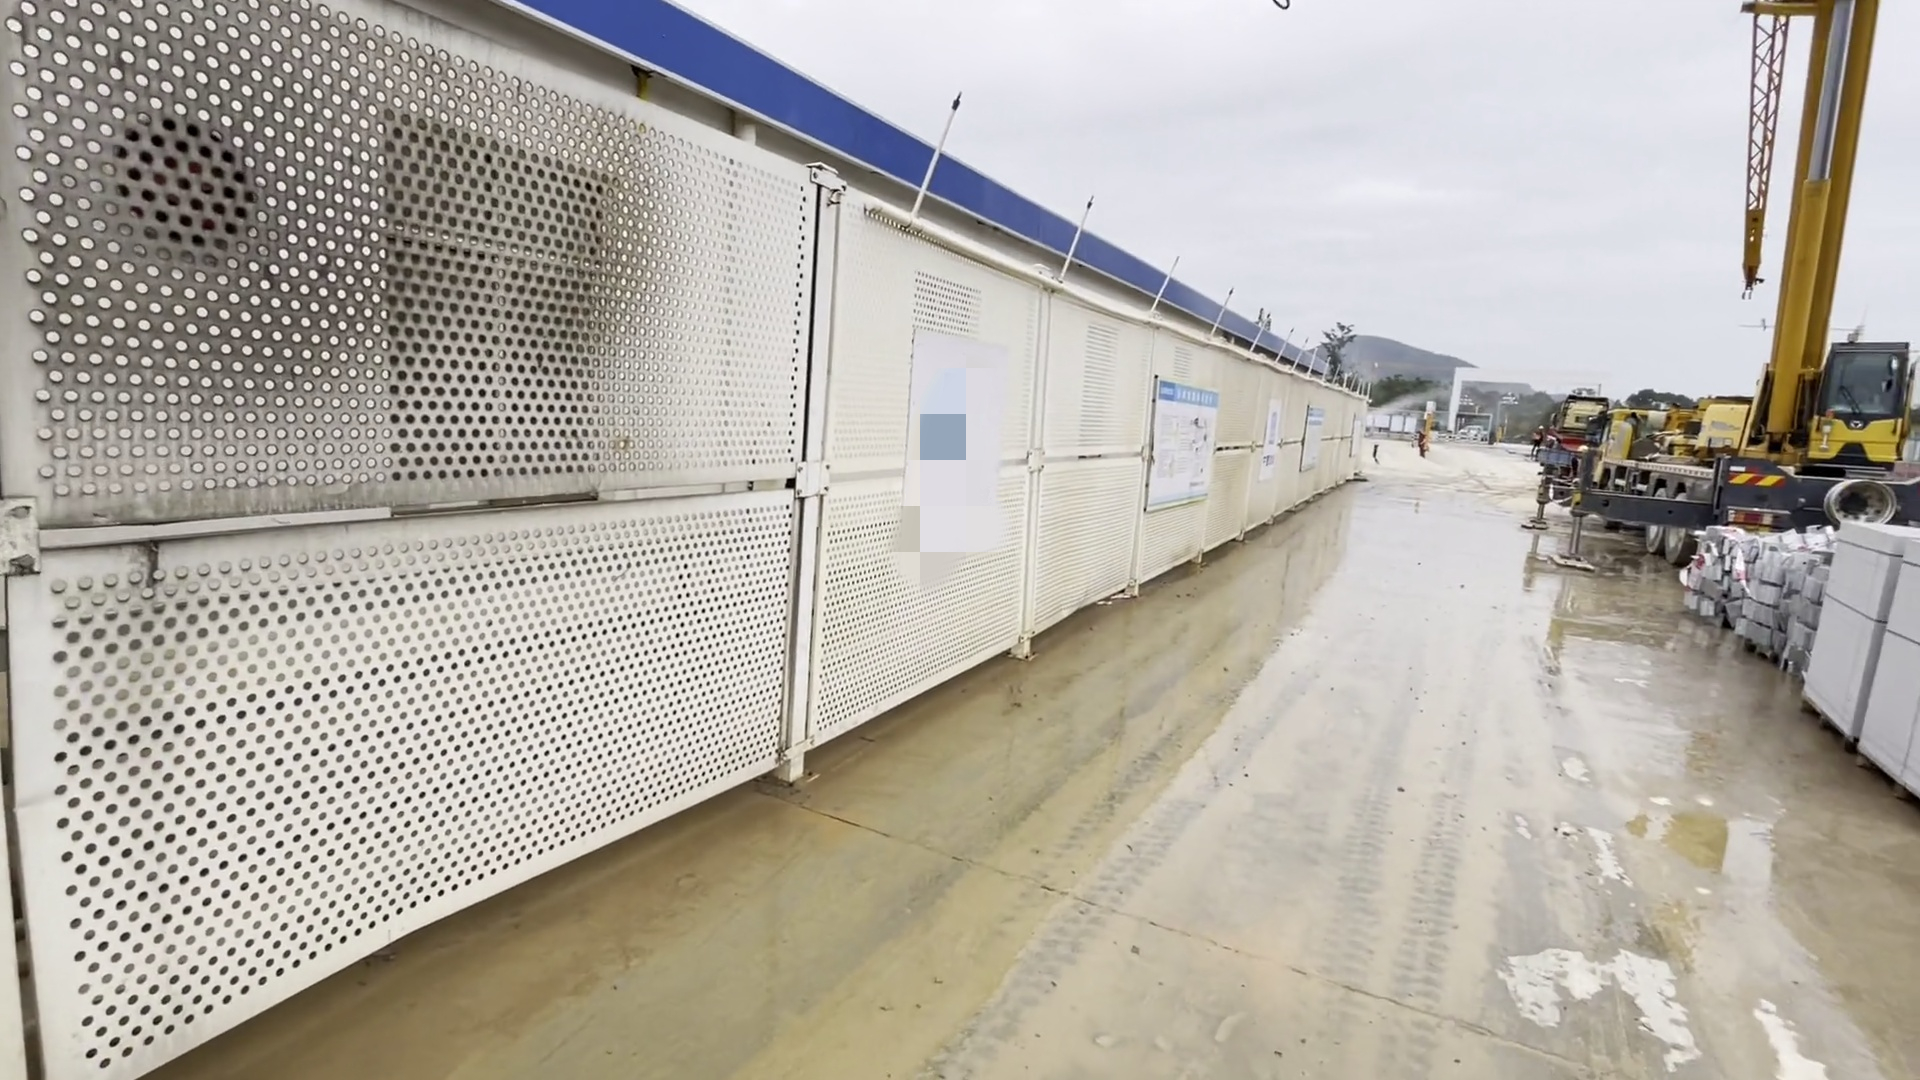slogan: (1147, 377, 1225, 518)
